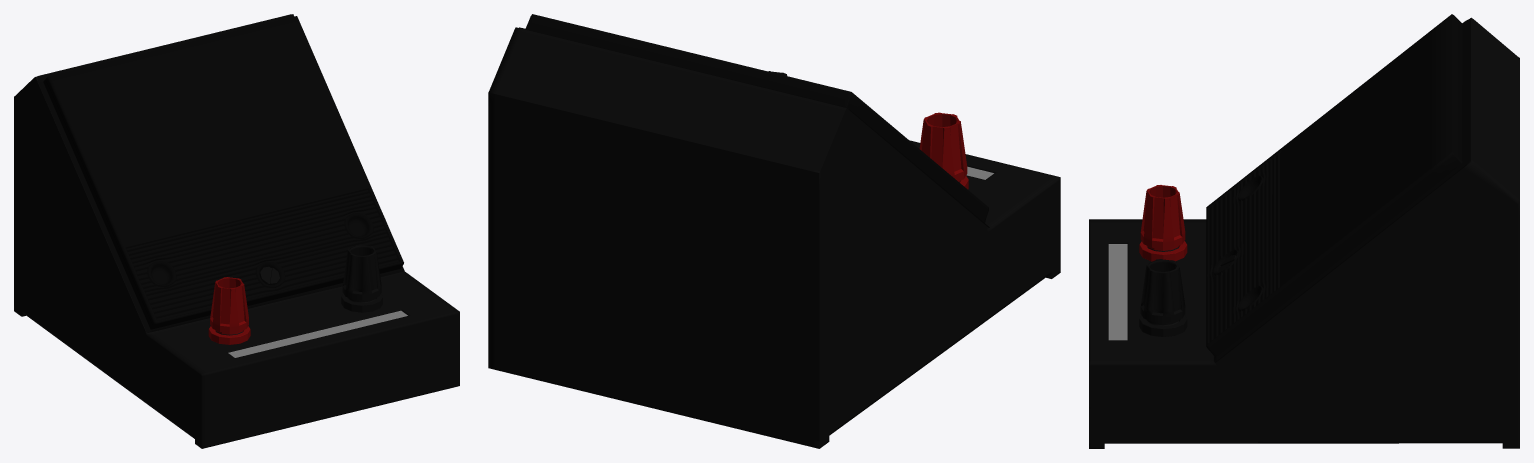
The model's file is Ammeter.FBX.
The picture shows the model from 3 angles, left to right: view 1: azimuth 30°, elevation 25°; view 2: azimuth 150°, elevation 25°; view 3: azimuth 270°, elevation 25°; orthographic projection. The views are drawn at different scales.
Parts seen in each view (by area): view 1: ammeterglass, ammeter09, ammeter07, ammeter04, ammeter03, ammeter00; view 2: ammeter09, ammeterglass, ammeter04; view 3: ammeter09, ammeterglass, ammeter07, ammeter04, ammeter00, ammeter03.
Part boxes in pixels (x1,y1,x2,y2): ammeterglass: (37, 14, 404, 332); ammeter09: (14, 14, 459, 448); ammeter07: (342, 244, 381, 302); ammeter04: (210, 277, 248, 334); ammeter03: (208, 326, 250, 344); ammeter00: (341, 294, 382, 312); ammeter09: (488, 27, 1060, 448); ammeterglass: (519, 14, 989, 227); ammeter04: (919, 112, 967, 181); ammeter09: (1089, 17, 1519, 448); ammeterglass: (1206, 14, 1470, 362); ammeter07: (1140, 259, 1185, 325); ammeter04: (1140, 185, 1185, 250); ammeter00: (1139, 315, 1187, 336); ammeter03: (1139, 241, 1187, 261).
Bounding box in the file's own units: 154 × 146 × 194.
